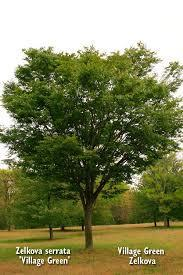tree: (1, 42, 183, 254)
